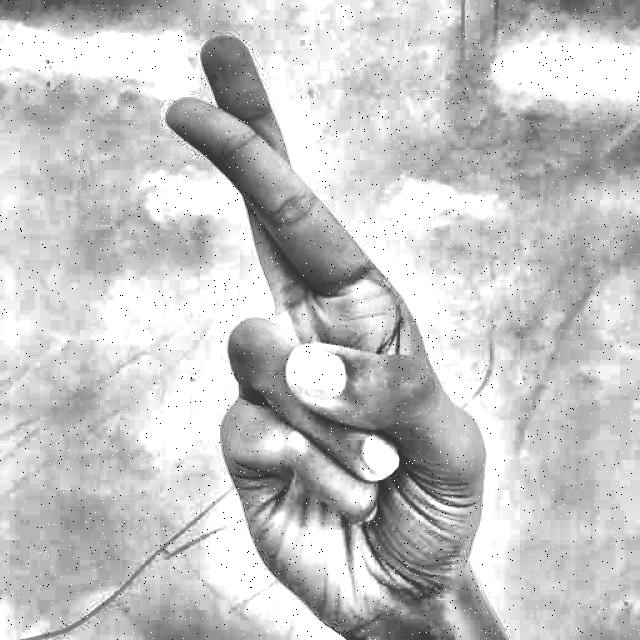Ra: (133, 25, 490, 626)
